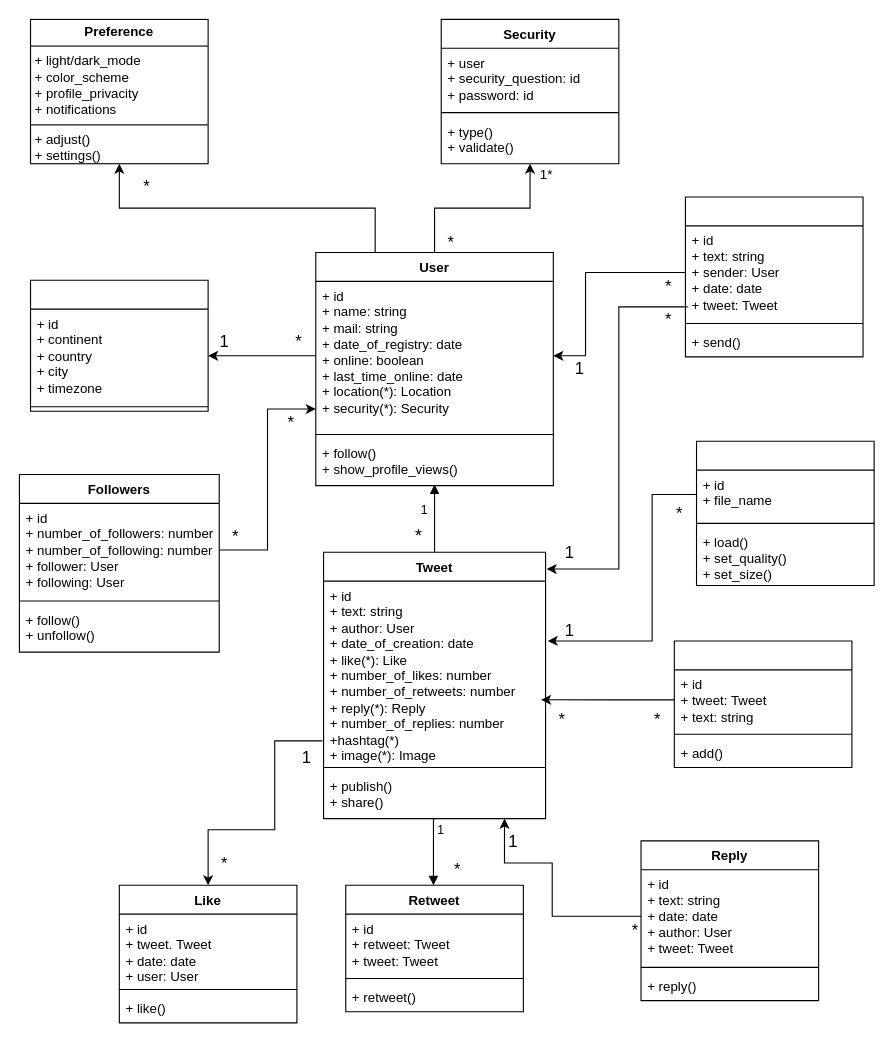
The diagram is 894 pixels wide and 1046 high, and some of its shapes have lost their labels. The shapes that lost their labels are listed below. From the top down, each one's box as (x1, y1, x2, y2) in pixels, then its label:
(684, 196, 863, 357): Message
(29, 279, 208, 411): Location
(695, 440, 874, 586): Image
(673, 640, 852, 768): Hashtag
